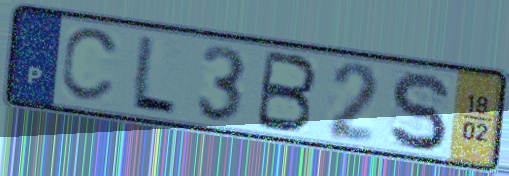2: (327, 59, 381, 147)
3: (194, 44, 250, 125)
B: (252, 48, 321, 136)
C: (57, 26, 124, 107)
L: (126, 31, 180, 118)
S: (387, 69, 451, 154)
